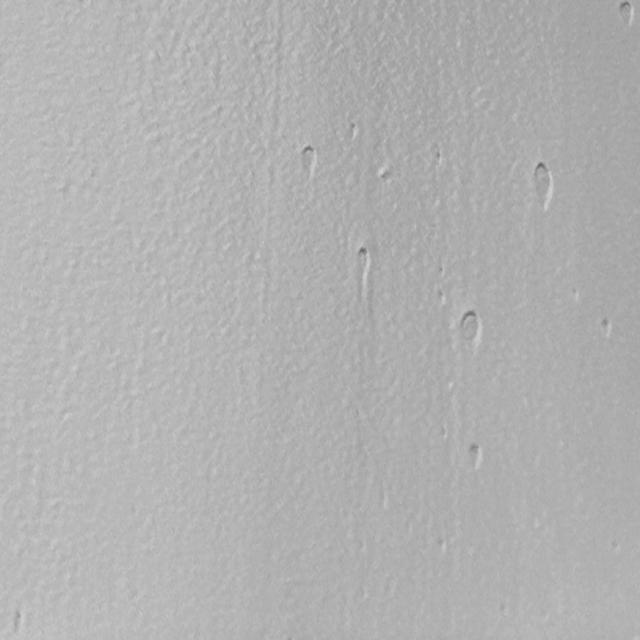pin holes: (527, 160, 560, 217), (456, 310, 486, 350), (297, 146, 319, 180), (615, 0, 637, 31), (465, 442, 487, 471), (7, 607, 28, 637), (356, 245, 375, 274), (596, 314, 614, 339), (430, 147, 447, 170), (433, 536, 449, 558), (435, 285, 450, 306), (346, 121, 359, 140), (377, 168, 393, 182), (440, 424, 448, 440), (572, 286, 580, 301), (438, 267, 444, 277)
